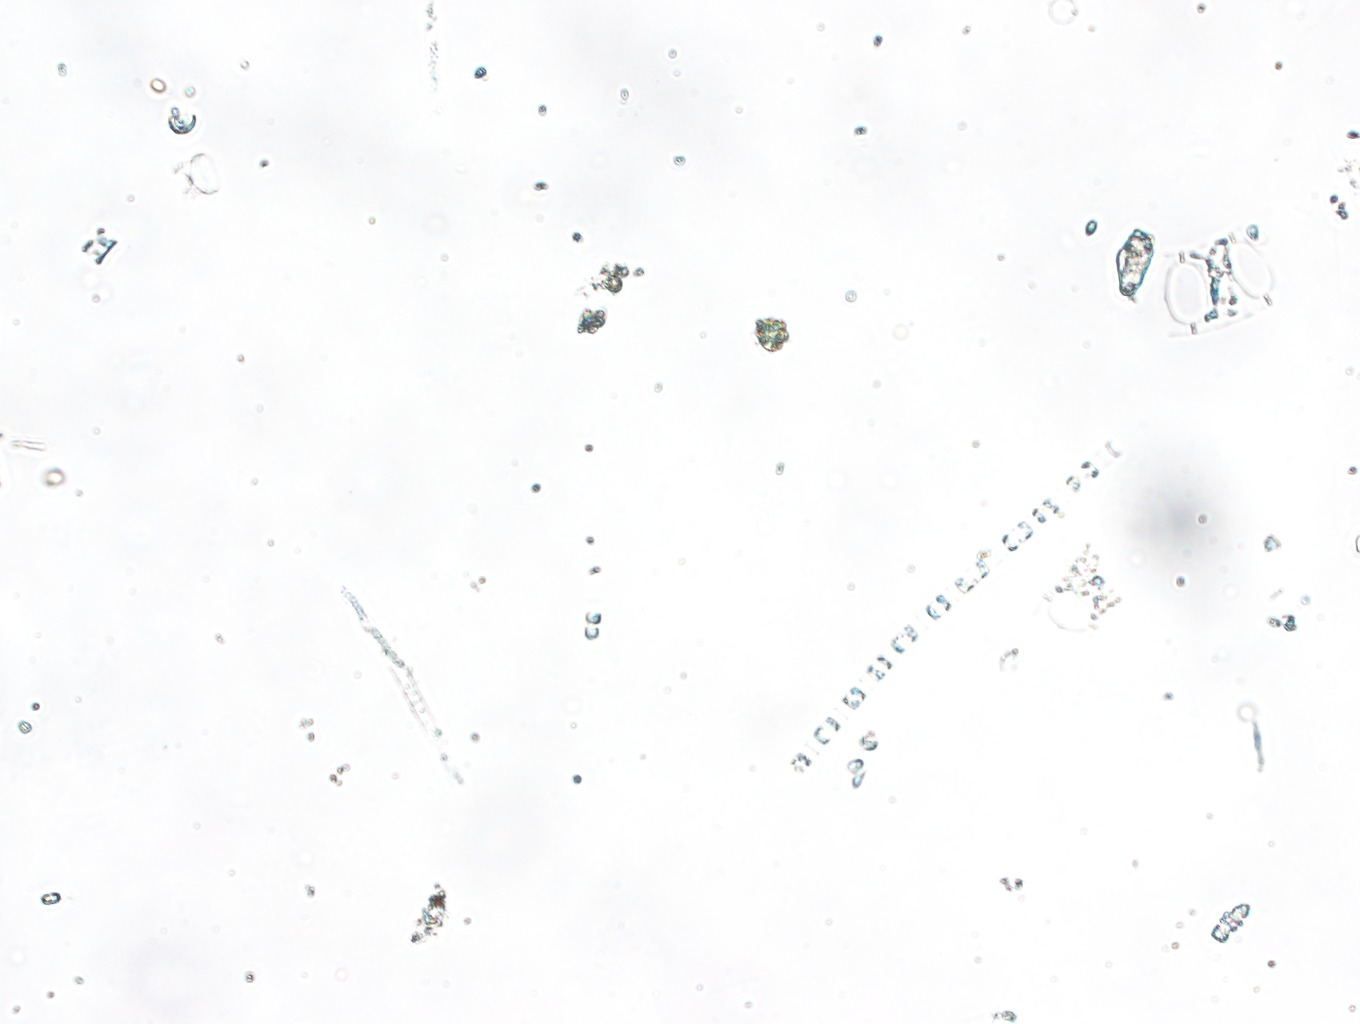skeletonema: (783, 433, 1139, 779)
